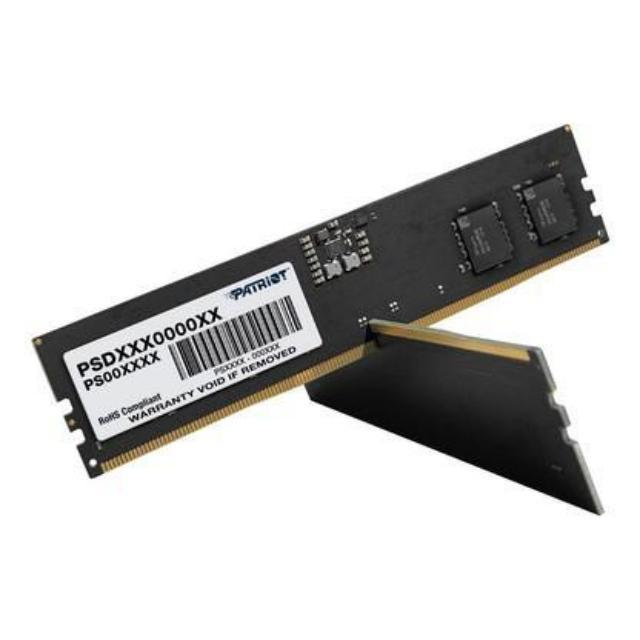RAM: (30, 122, 616, 478)
